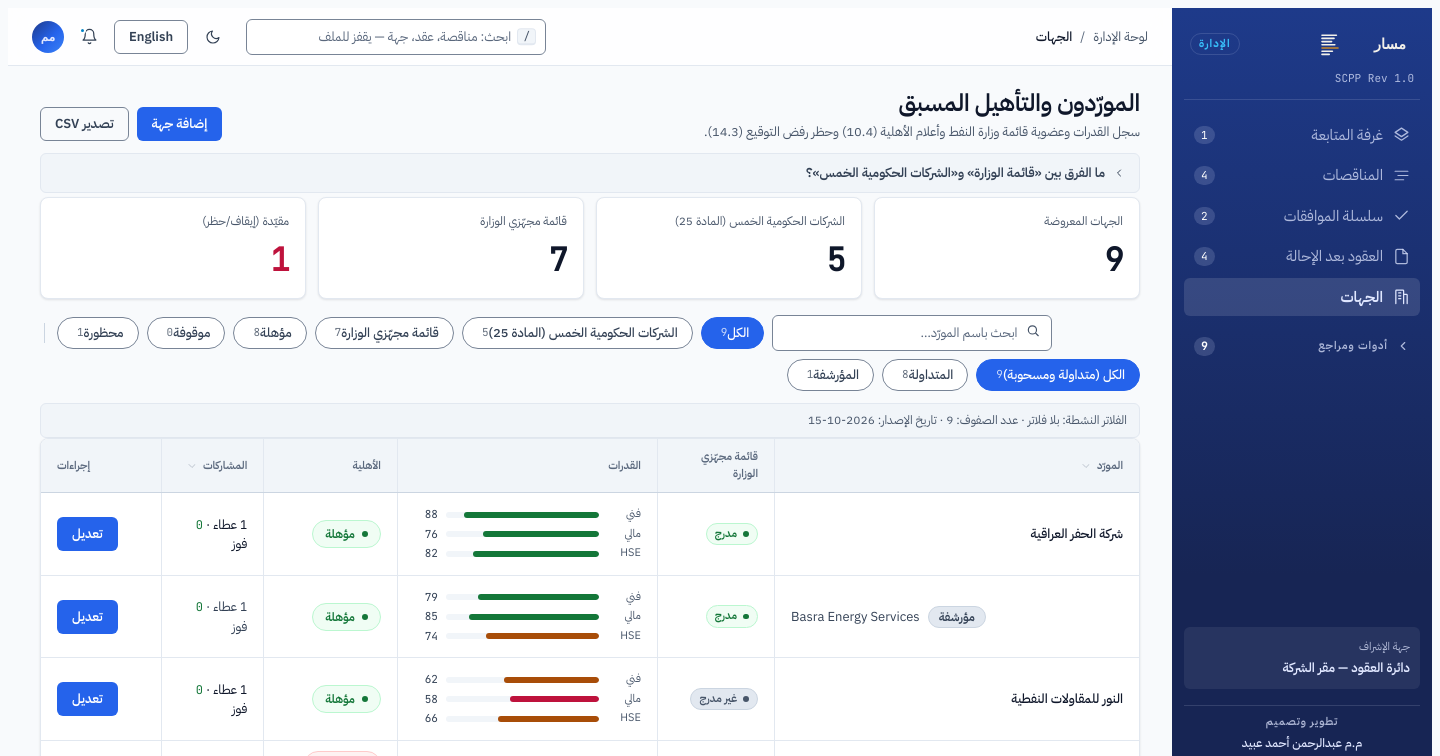
Test: #/admin/entities — the registry shows EVERY entity (request 14) › offers the archived chip alongside the governance ones, counted
Expected: the 4th text "1" is shown, [807,366,813,383]
Click the button "المؤرشفة 1". click: (830,375)
box: [787,359,874,391]
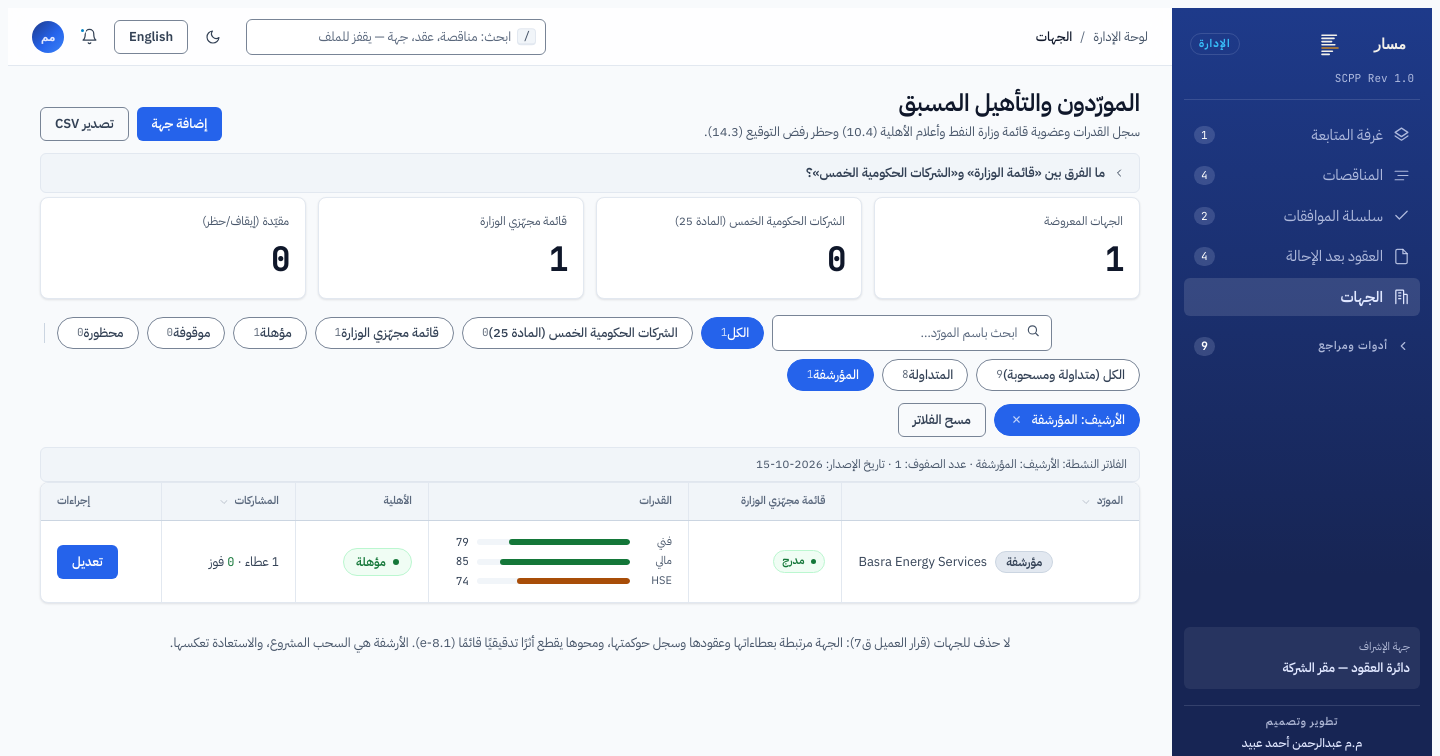
Expected: the text "Basra Energy Services" is shown, [858,552,987,571]
Expected: the text "شركة الحفر العراقية" is gone
